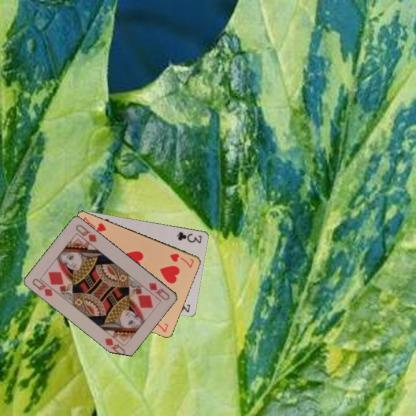3c: (174, 229, 203, 244)
7h: (168, 251, 195, 269)
Qd: (30, 276, 59, 298), (146, 280, 171, 302)
